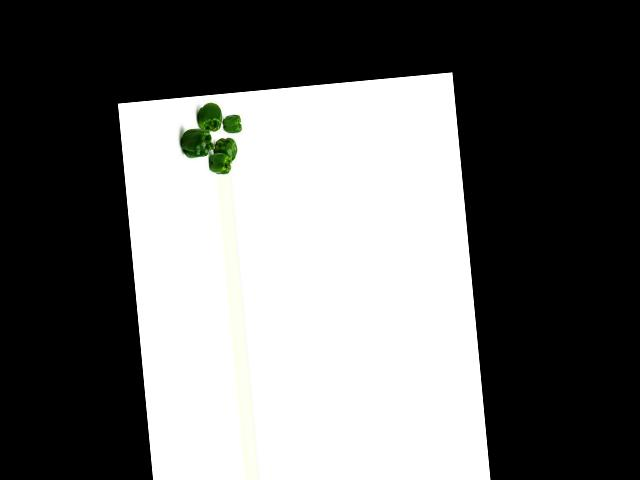bell_pepper: (205, 150, 231, 176)
